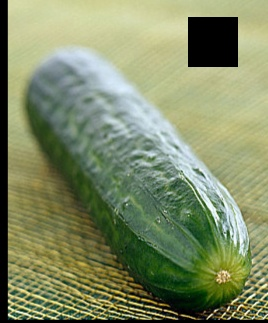cucumber: (23, 47, 250, 307)
